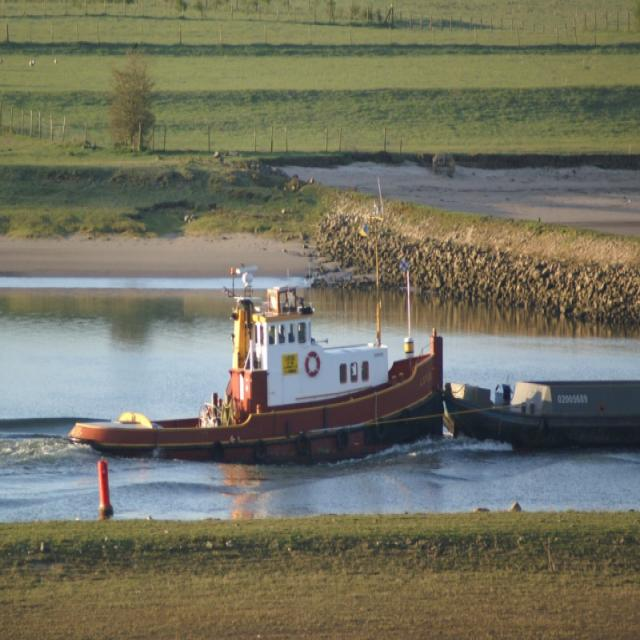tugboat: (65, 265, 451, 474)
